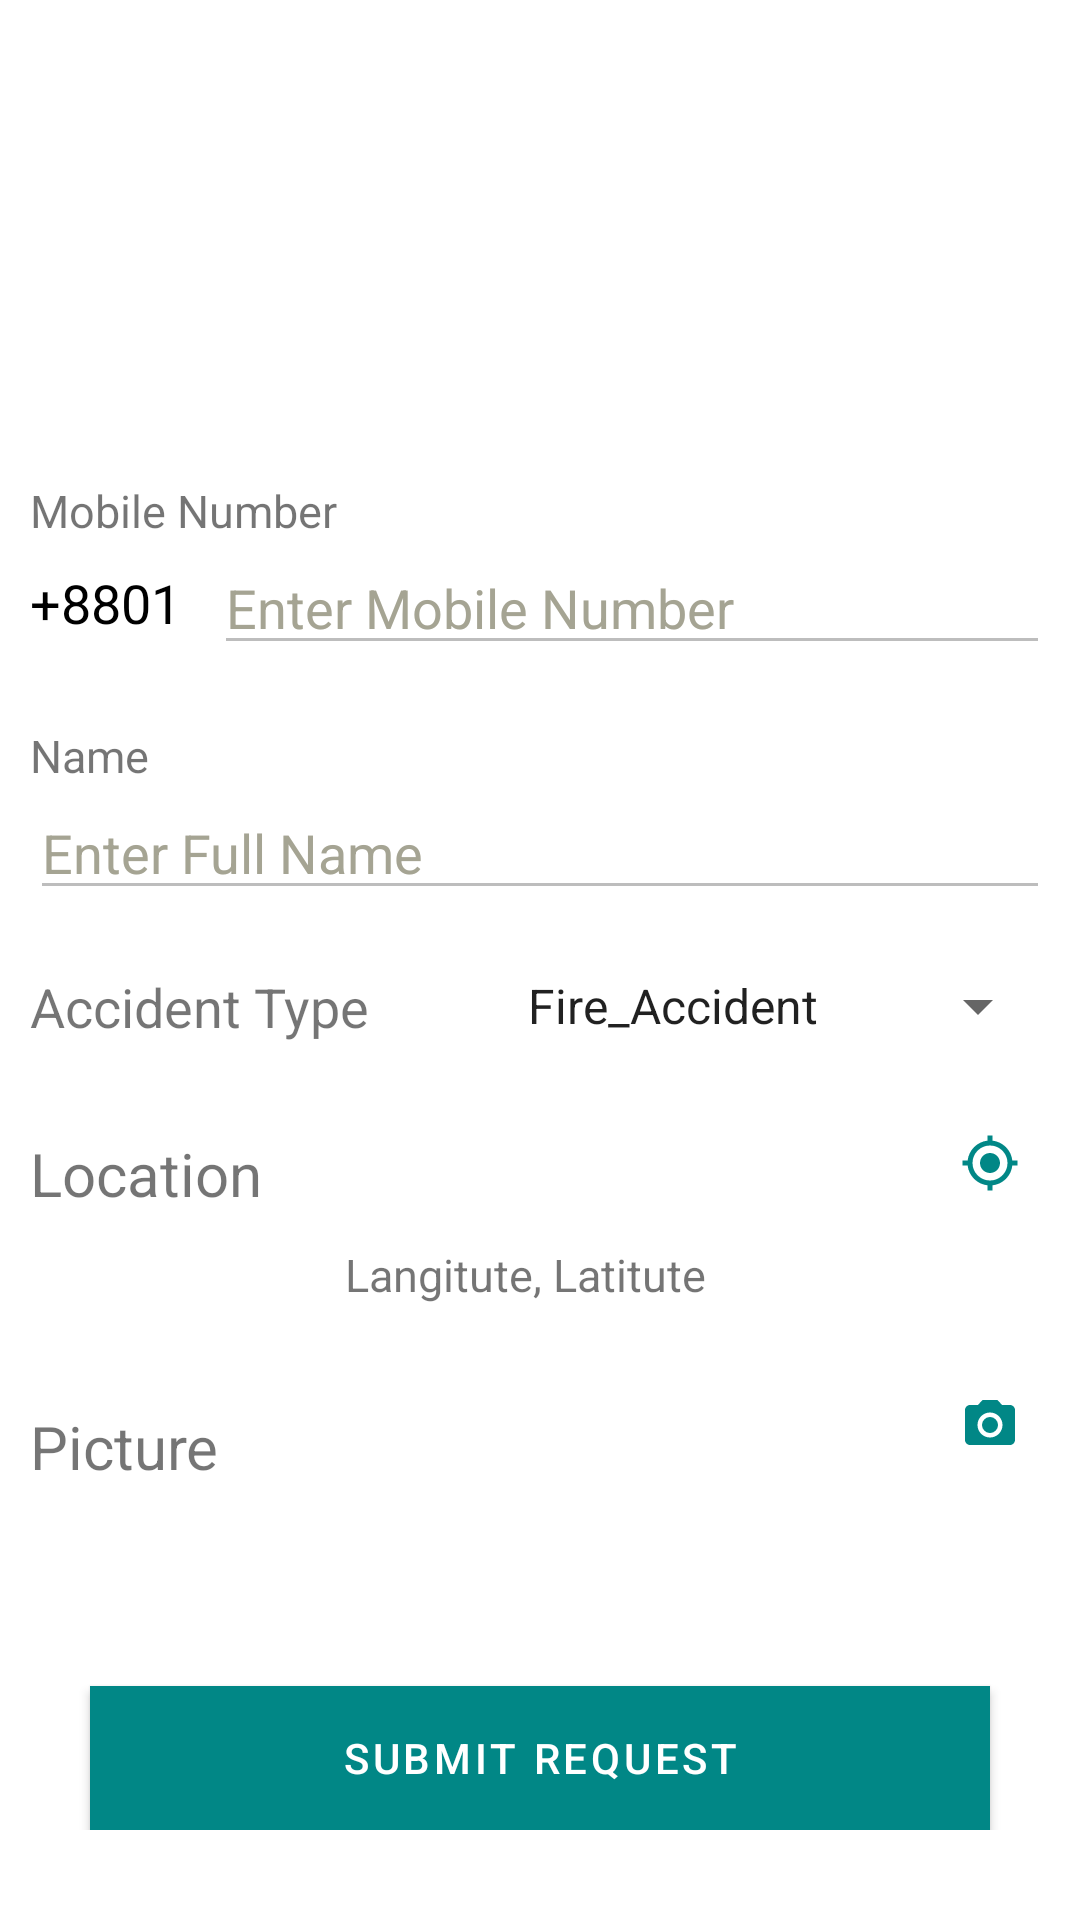

Locate icon controls on the screen. Image size 1080 × 1920, boxes as [left=x1, top=y1, right=x2, bottom=y2].
camera: [left=965, top=1400, right=1015, bottom=1445]
